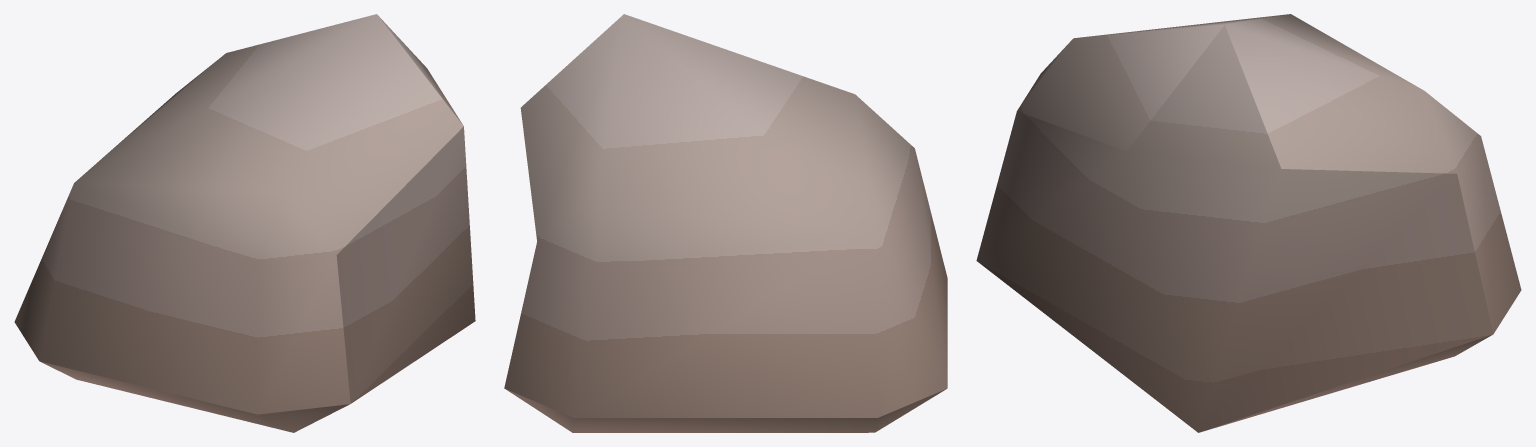
File: simple_low_poly_rock2.glb
The picture shows the model from 3 angles, left to right: view 1: azimuth 30°, elevation 25°; view 2: azimuth 150°, elevation 25°; view 3: azimuth 270°, elevation 25°; orthographic projection. The views are drawn at different scales.
Visible parts, largest first — view 1: rock2_Material #26_0; view 2: rock2_Material #26_0; view 3: rock2_Material #26_0.
Boxes of the visible parts, x1,y1,x2,y2 form: rock2_Material #26_0: (14, 14, 475, 432); rock2_Material #26_0: (504, 14, 947, 432); rock2_Material #26_0: (976, 14, 1521, 432).
Bounding box in the file's own units: 0.4375 × 0.3238 × 0.4437.
Materials: 1 (1 with a texture image).
